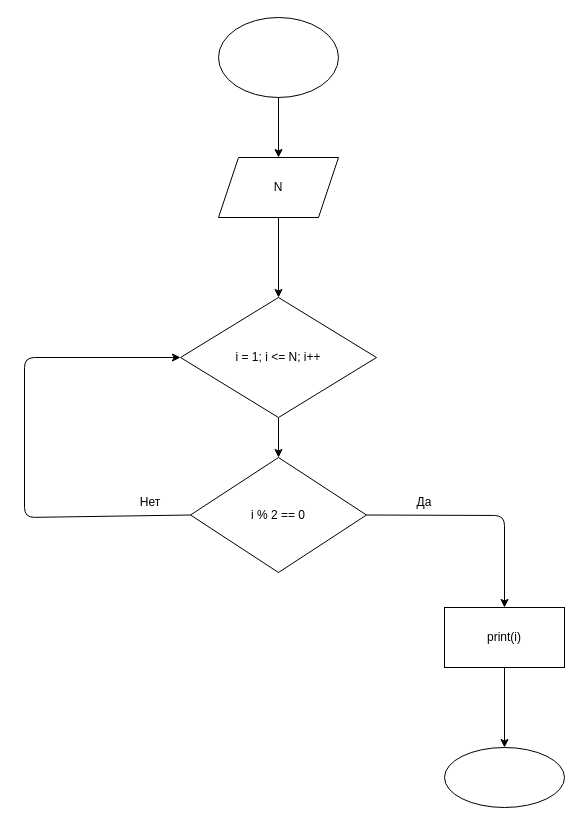
This 582x825 diagram has some shape labels left out. Each missing label, with the centre of its shape:
end: (504,777)
Начало: (278,57)
